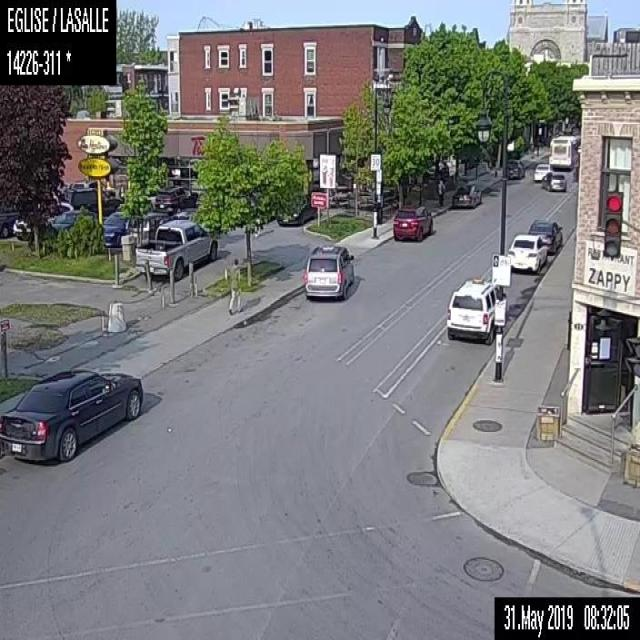bus: (547, 134, 579, 168)
pedestrian: (228, 256, 241, 315), (434, 174, 444, 207)
vehicle: (0, 366, 144, 466), (135, 218, 219, 279), (445, 276, 496, 343), (302, 241, 354, 299), (13, 201, 72, 240), (506, 233, 550, 272), (391, 203, 435, 241), (64, 188, 123, 214), (153, 184, 199, 214), (526, 218, 562, 253), (50, 208, 96, 232), (278, 205, 318, 226), (451, 181, 482, 208), (102, 210, 128, 242), (0, 210, 18, 238), (541, 171, 566, 189), (506, 156, 524, 177), (532, 163, 550, 180)
